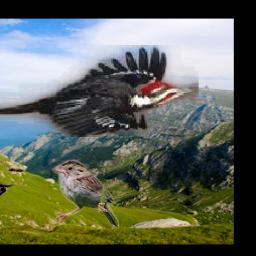Sparrow: (52, 159, 120, 228)
Woodpecker: (0, 45, 200, 137), (0, 176, 13, 199)
